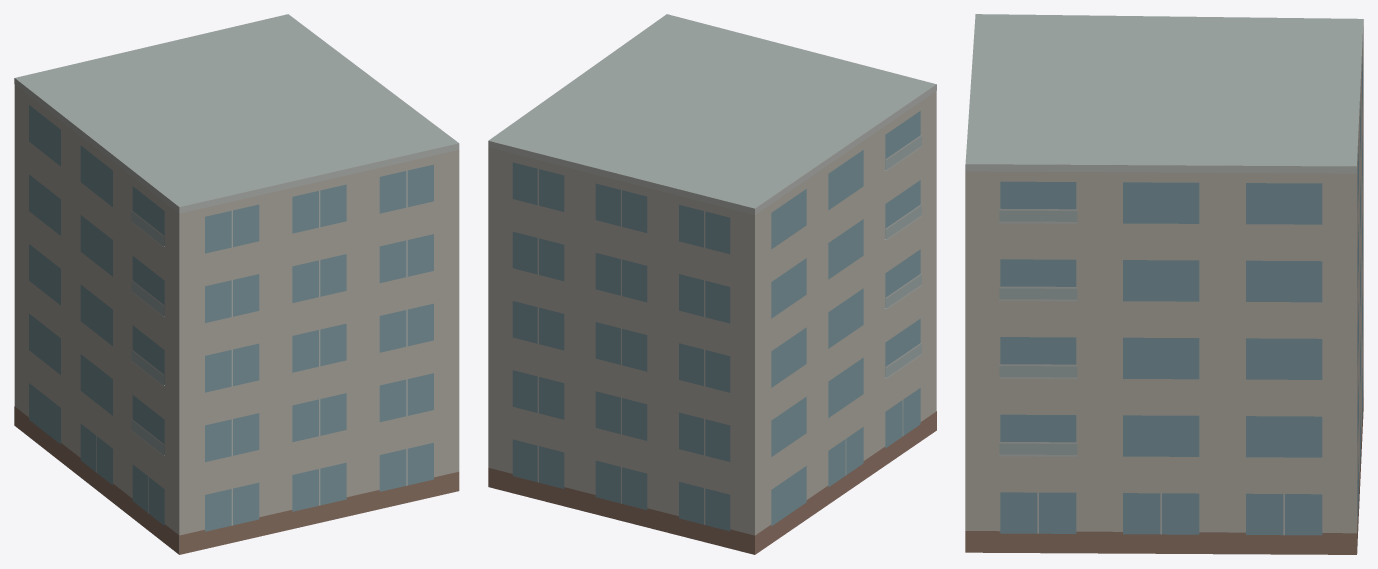
File: survey-upis-32993752.glb
The picture shows the model from 3 angles, left to right: view 1: azimuth 30°, elevation 25°; view 2: azimuth 150°, elevation 25°; view 3: azimuth 270°, elevation 25°; orthographic projection. The views are drawn at different scales.
Visible parts, largest first — view 1: survey-upis-32993752.tmp; view 2: survey-upis-32993752.tmp; view 3: survey-upis-32993752.tmp.
Boxes of the visible parts, box(x1,y1,x2,y2) form: survey-upis-32993752.tmp: box(14, 14, 459, 554); survey-upis-32993752.tmp: box(488, 14, 936, 554); survey-upis-32993752.tmp: box(965, 14, 1363, 554).
Bounding box in the file's own units: 11.12 × 13.2 × 12.27.
